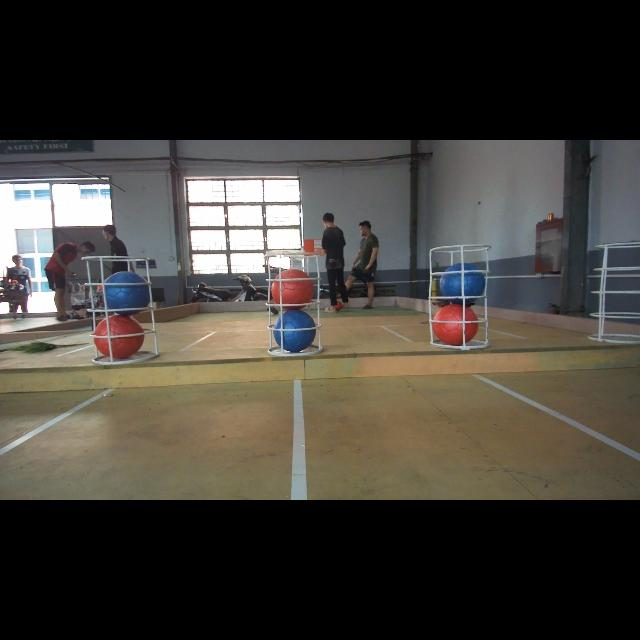B: (102, 272, 152, 314), (440, 262, 486, 306), (273, 310, 315, 352)
R: (94, 316, 144, 358), (433, 304, 477, 346), (272, 268, 314, 310)
